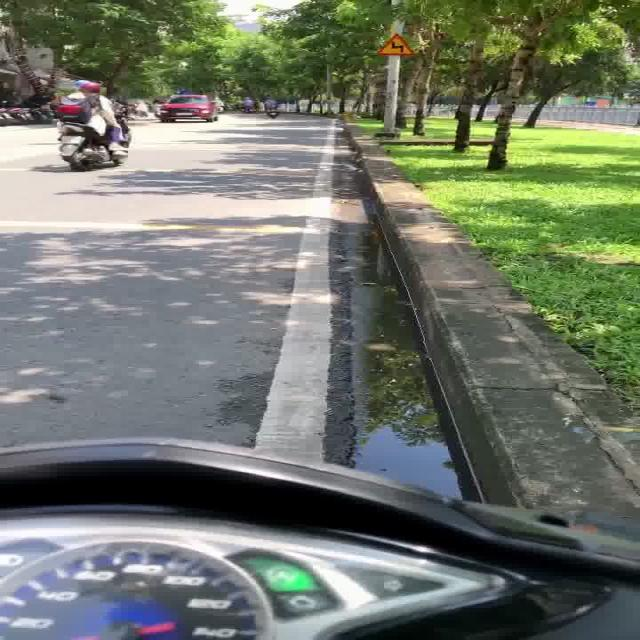Bien bao nhieu cho ngoat nguy hiem lien tiep: (374, 29, 418, 57)
